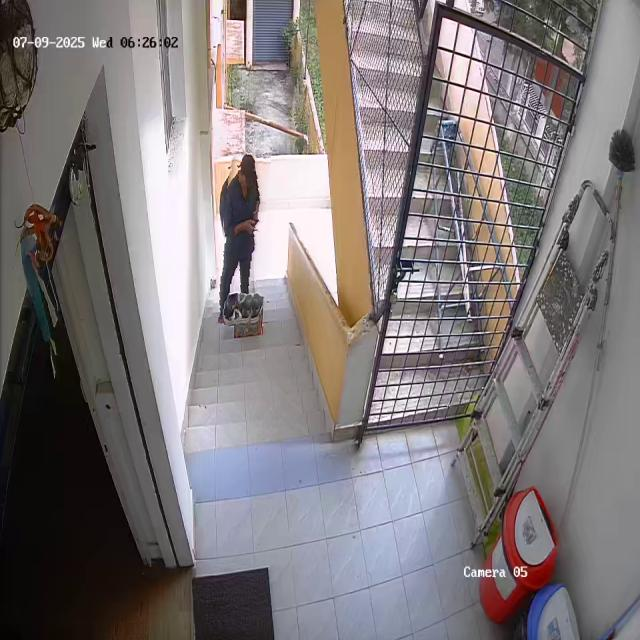person: (216, 152, 266, 328)
